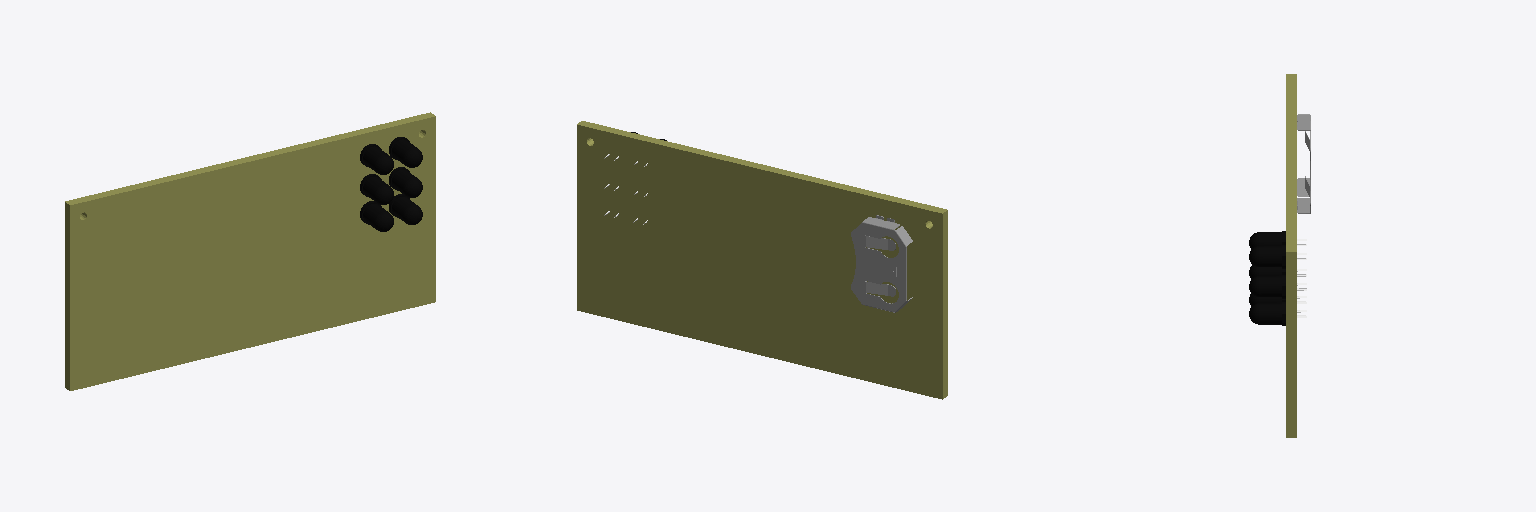
File: OBJ_BoardThatsCool.obj
3 renders of one model, left to right at view 1: azimuth 30°, elevation 25°; view 2: azimuth 150°, elevation 25°; view 3: azimuth 270°, elevation 25°, orthographic.
Size of the model in its own units: 389 by 189 by 57.05.